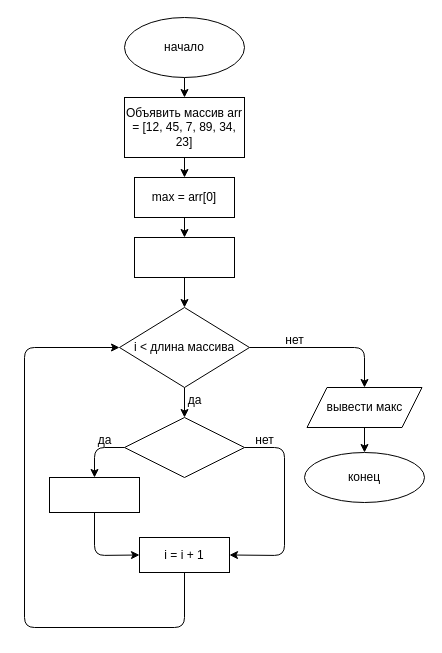
This 442x653 diagram has some shape labels left out. The centre of each missing label's shape, as x and y in pixels:
"arr[i] > max" goes at point 184,447.
"i = 1" goes at point 184,257.
"max = arr[i]" goes at point 94,494.
